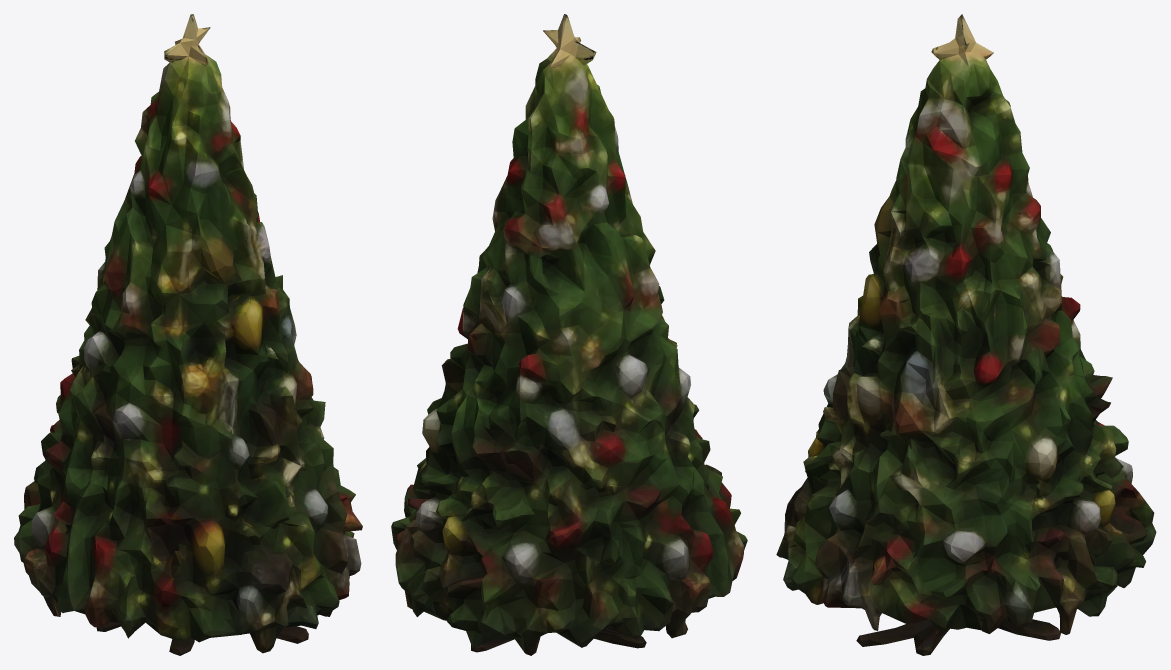
Rendered from tree_christmas_decorated.glb.
3 views of the same model, side by side, from view 1: azimuth 30°, elevation 25°; view 2: azimuth 150°, elevation 25°; view 3: azimuth 270°, elevation 25° (orthographic).
Parts seen in each view (by area): view 1: geometry_0; view 2: geometry_0; view 3: geometry_0.
Boxes of the visible parts, <box> form: geometry_0: <box>14,14,362,655</box>; geometry_0: <box>391,14,747,655</box>; geometry_0: <box>776,14,1156,655</box>.
Size of the model in its own units: 0.5148 by 0.9995 by 0.5713.
1 material, 1 textured.
